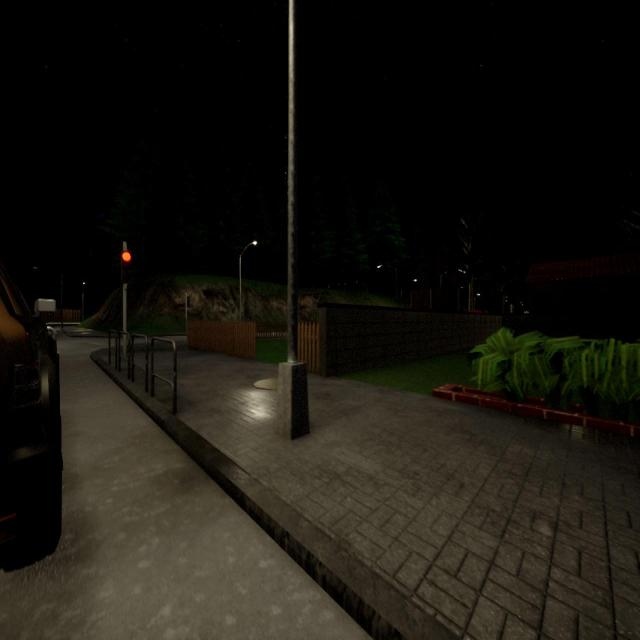Vehicle: (0, 262, 62, 568)
traffic_light: (122, 250, 132, 282)
